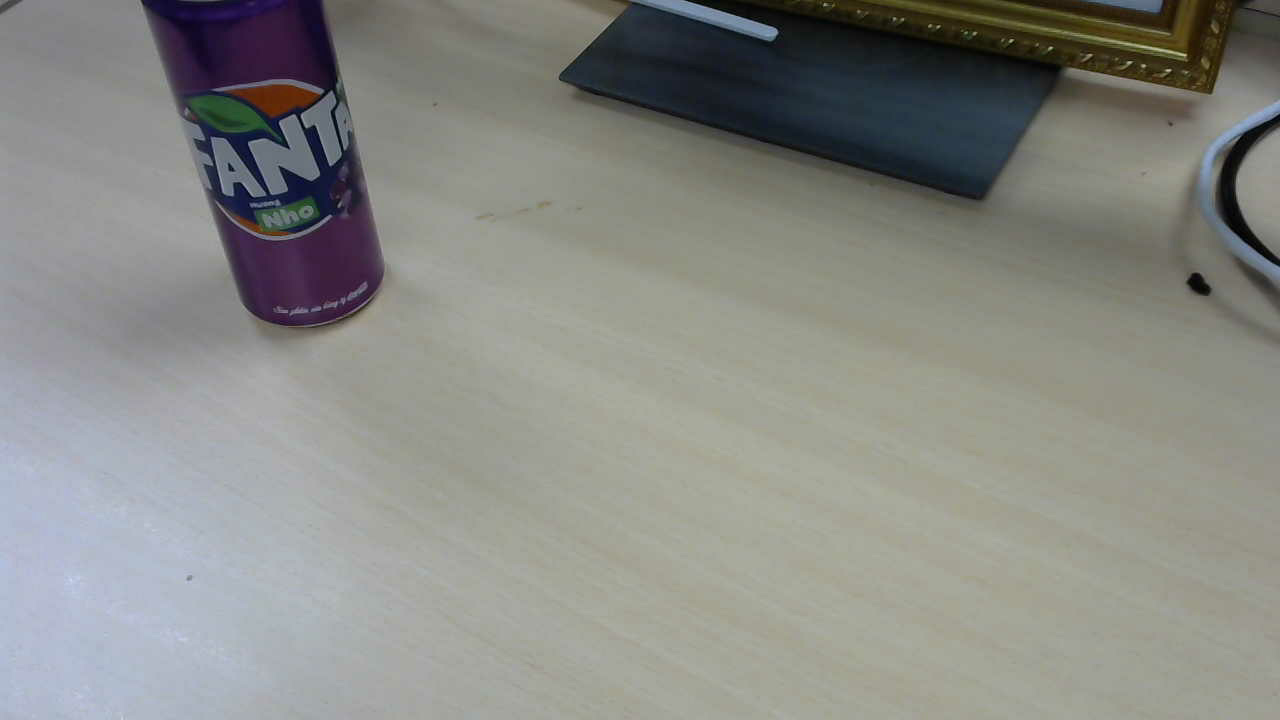Fanta: (144, 5, 392, 333)
